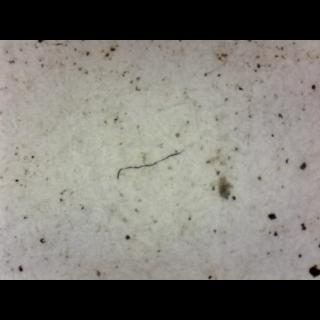Microplastic: (111, 142, 191, 185)
